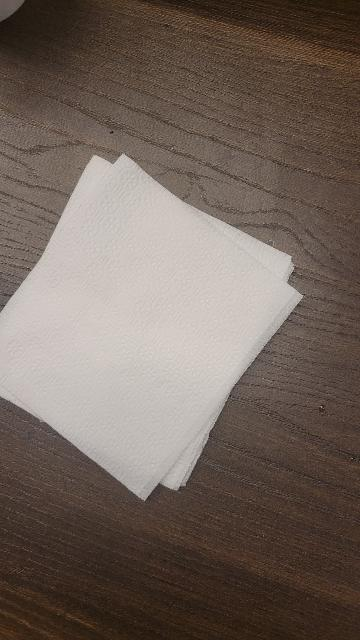Kagit: (0, 140, 296, 501)
